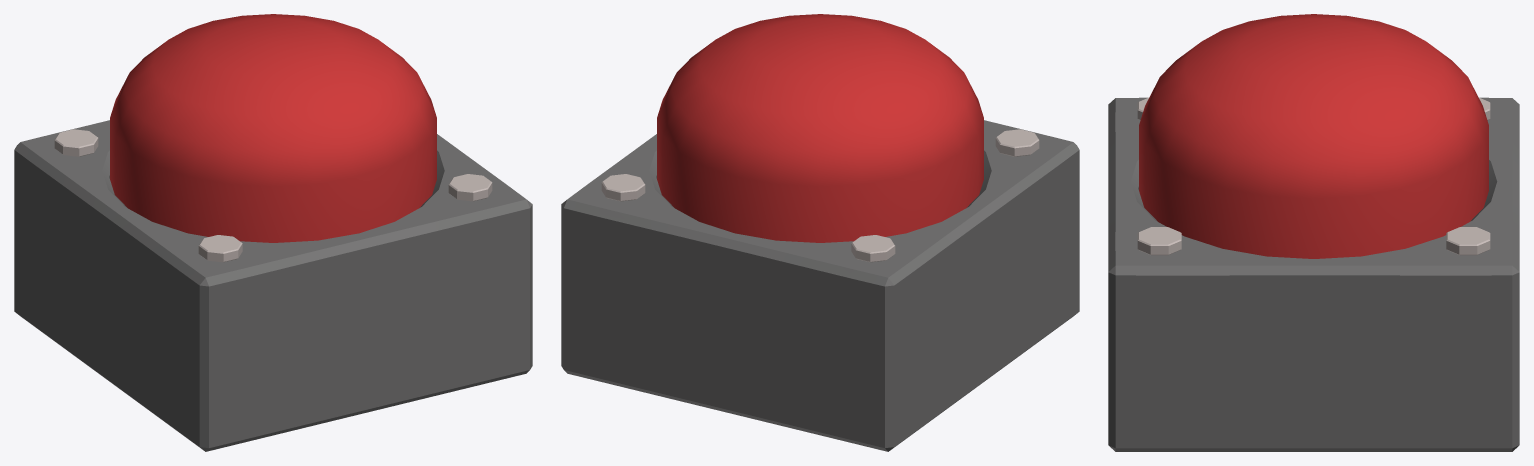
File: switch_normal.fbx
3 views of the same model, side by side, from view 1: azimuth 30°, elevation 25°; view 2: azimuth 150°, elevation 25°; view 3: azimuth 270°, elevation 25° (orthographic). The views are drawn at different scales.
Parts seen in each view (by area): view 1: botan2, botan1, nezi1, nezi3, nezi4; view 2: botan2, botan1, nezi2, nezi3, nezi4; view 3: botan2, botan1, nezi1, nezi2.
Part boxes in pixels (x1,y1,x2,y2): botan2: [14, 120, 532, 451]; botan1: [110, 14, 436, 242]; nezi1: [448, 174, 492, 201]; nezi3: [54, 129, 98, 156]; nezi4: [198, 235, 242, 262]; botan2: [561, 120, 1079, 451]; botan1: [657, 14, 983, 242]; nezi2: [601, 174, 645, 201]; nezi3: [851, 235, 895, 262]; nezi4: [995, 129, 1039, 156]; botan2: [1108, 97, 1519, 451]; botan1: [1139, 14, 1488, 258]; nezi1: [1137, 227, 1181, 255]; nezi2: [1446, 227, 1490, 255].
Bounding box in the file's own units: 4 × 3.46 × 4.
